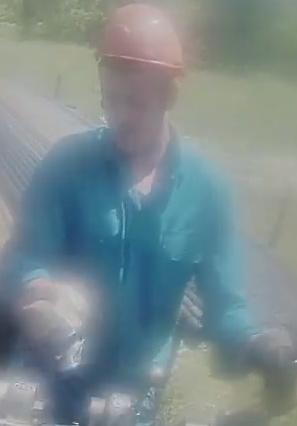gloves: (22, 278, 96, 364), (237, 324, 297, 377)
helmet: (91, 1, 189, 78)
vest: (10, 126, 245, 371)
